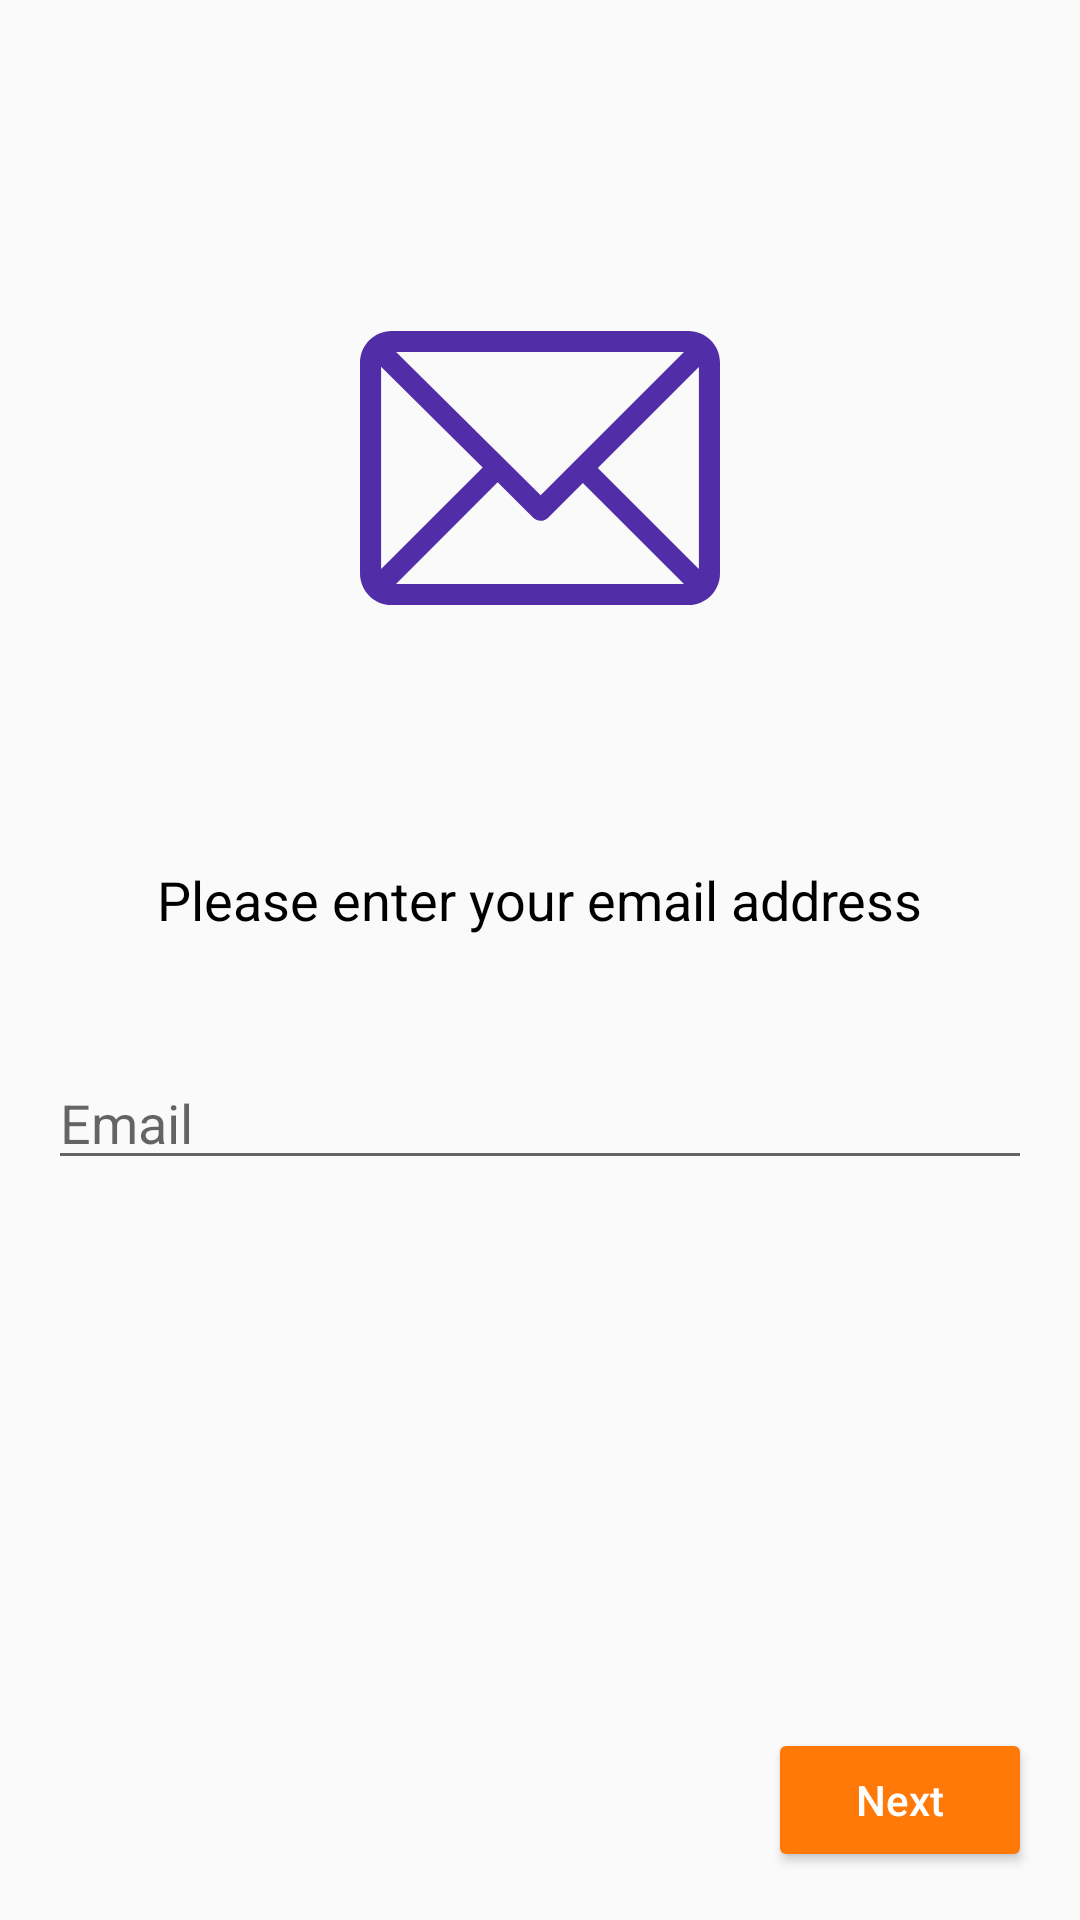

Locate icon controls on the screen. Image size 1080px x 1920px, boxes as (x1, y1, x2, y2).
email: (360, 331, 720, 605)
